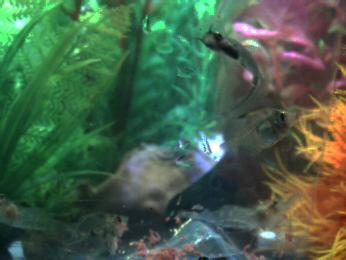X-ray fish: (53, 210, 130, 260), (219, 107, 297, 152)
glassfish: (196, 28, 268, 129)
siberian prawn: (175, 191, 304, 232), (1, 192, 82, 237)
